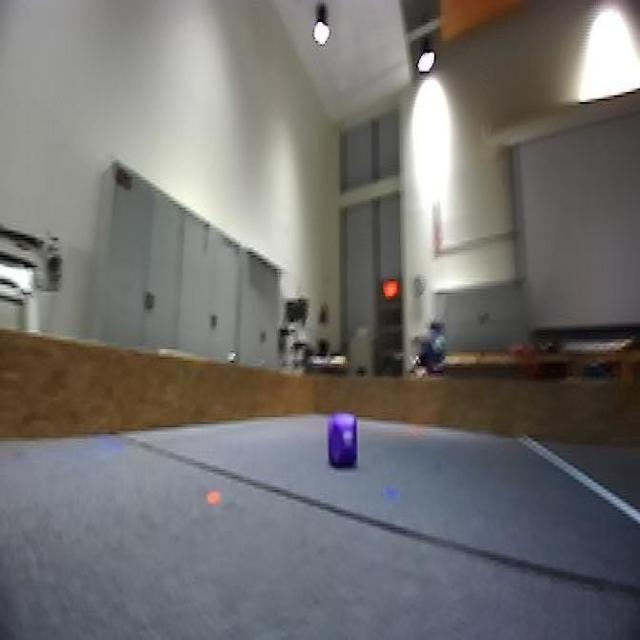frc_cube: (326, 414, 359, 469)
